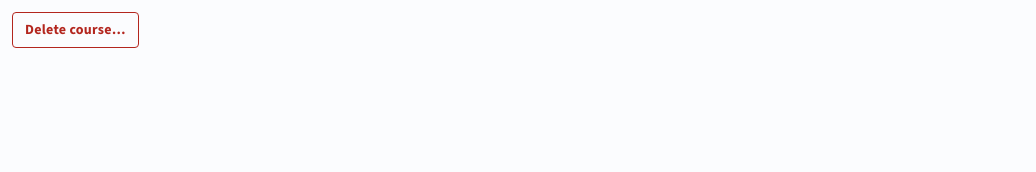
ConfirmButton › asks first, closes on Escape and gives focus back to the button
Later steps or results of the test are not shown.
Click the button "Delete course…": coordinates (75, 30) [12, 12, 139, 48]
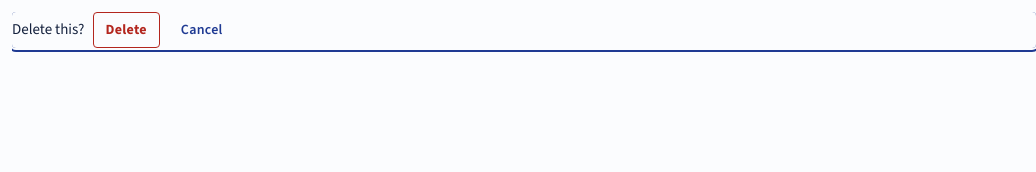
Now the text "Delete this?" is shown, box [12, 19, 84, 41]
Press Escape
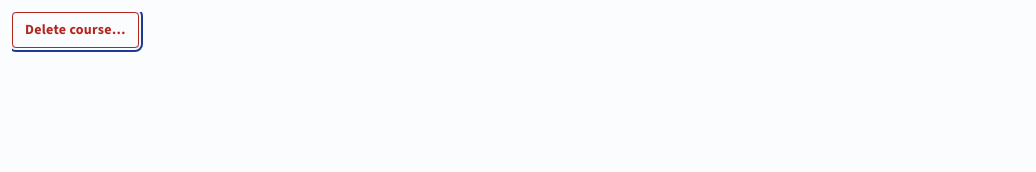
Now the text "Delete this?" is gone
